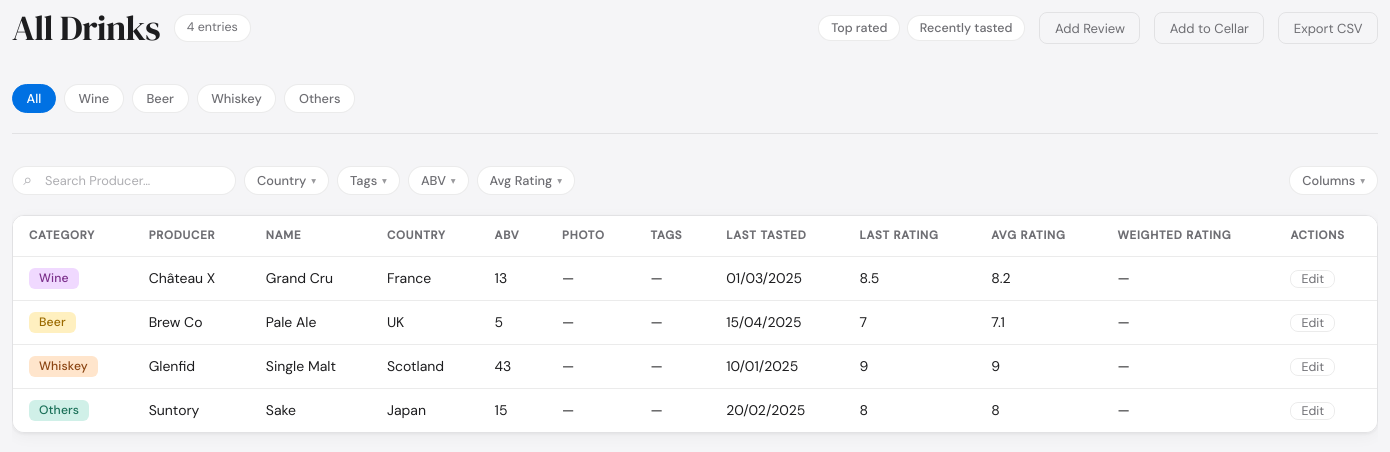
it: clicking a producer cell filters to that producer
The image size is (1390, 452).
Expected: the text "Grand Cru" is shown, [250,256,371,300]
Click the text "Château X".
click(182, 278)  # box [149,269,215,287]
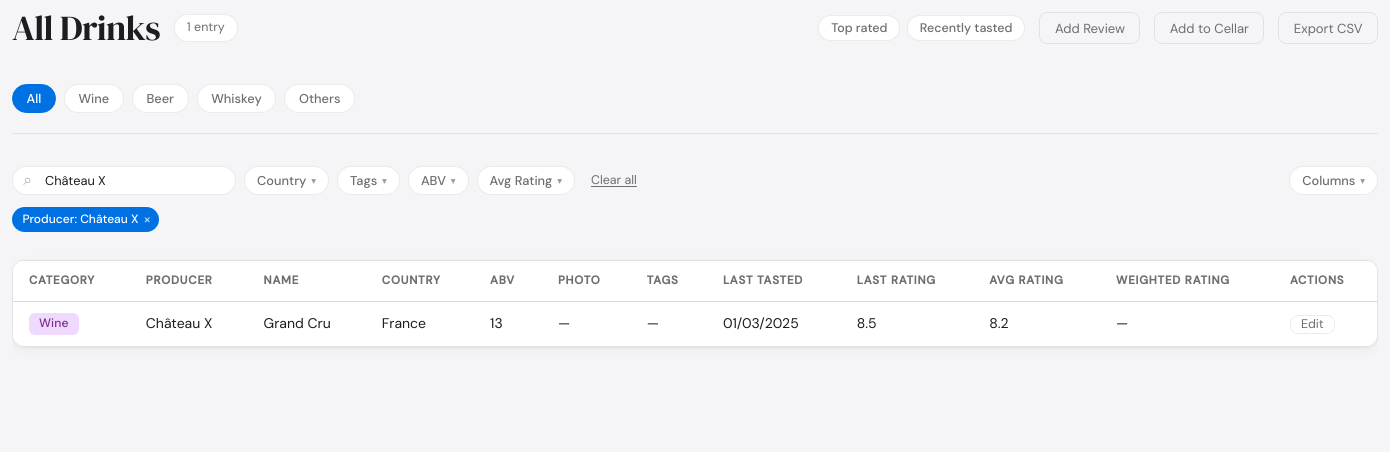
Expected: the text "Grand Cru" is shown, [248,302,366,346]
Expected: the text "Pale Ale" is gone
